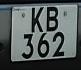2: (51, 31, 67, 58)
3: (19, 32, 37, 61)
6: (36, 32, 51, 59)
B: (45, 5, 59, 33)
K: (29, 6, 44, 35)
